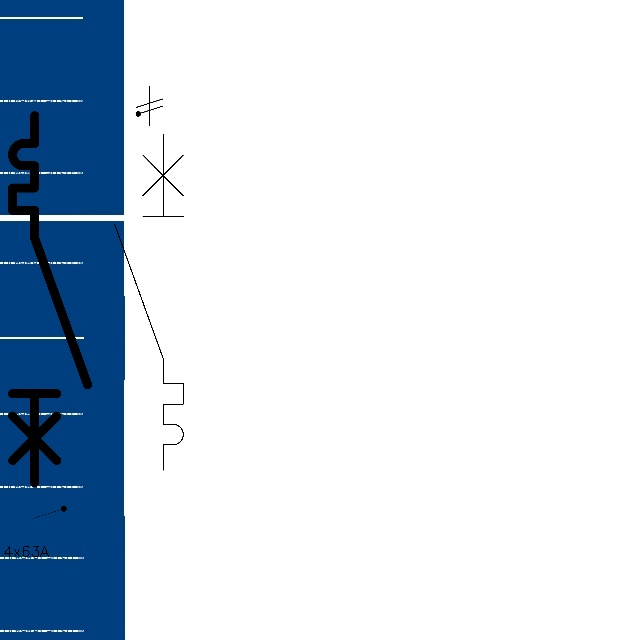interruptor_termomagnetico: (3, 106, 97, 492), (106, 125, 192, 478)
